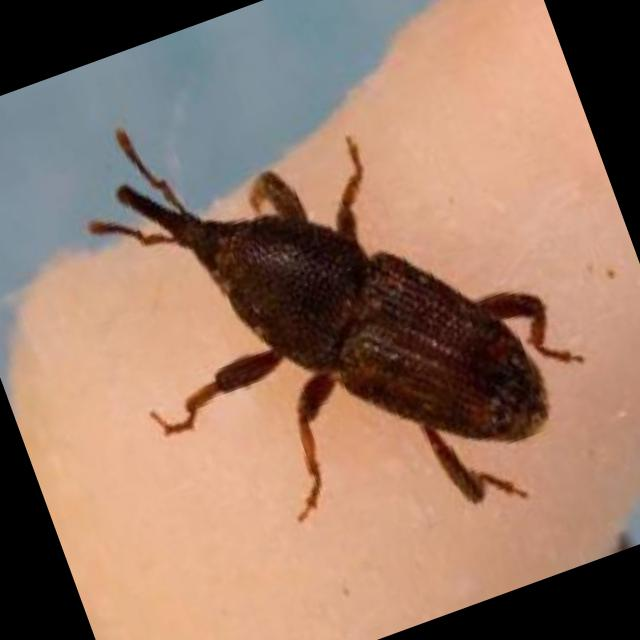rice-bug: (112, 69, 570, 558)
